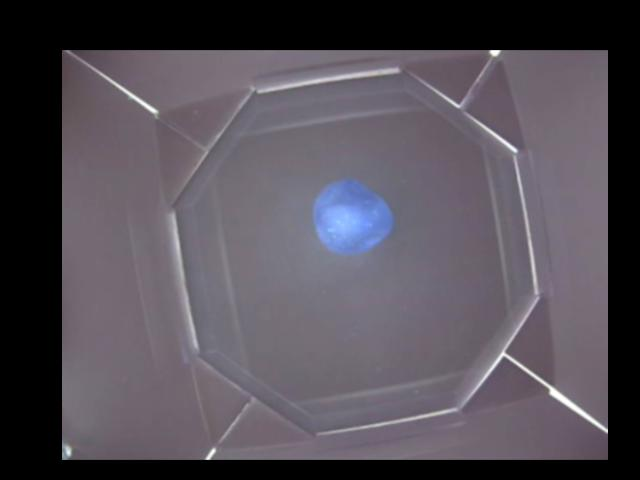Potato: (315, 177, 393, 261)
